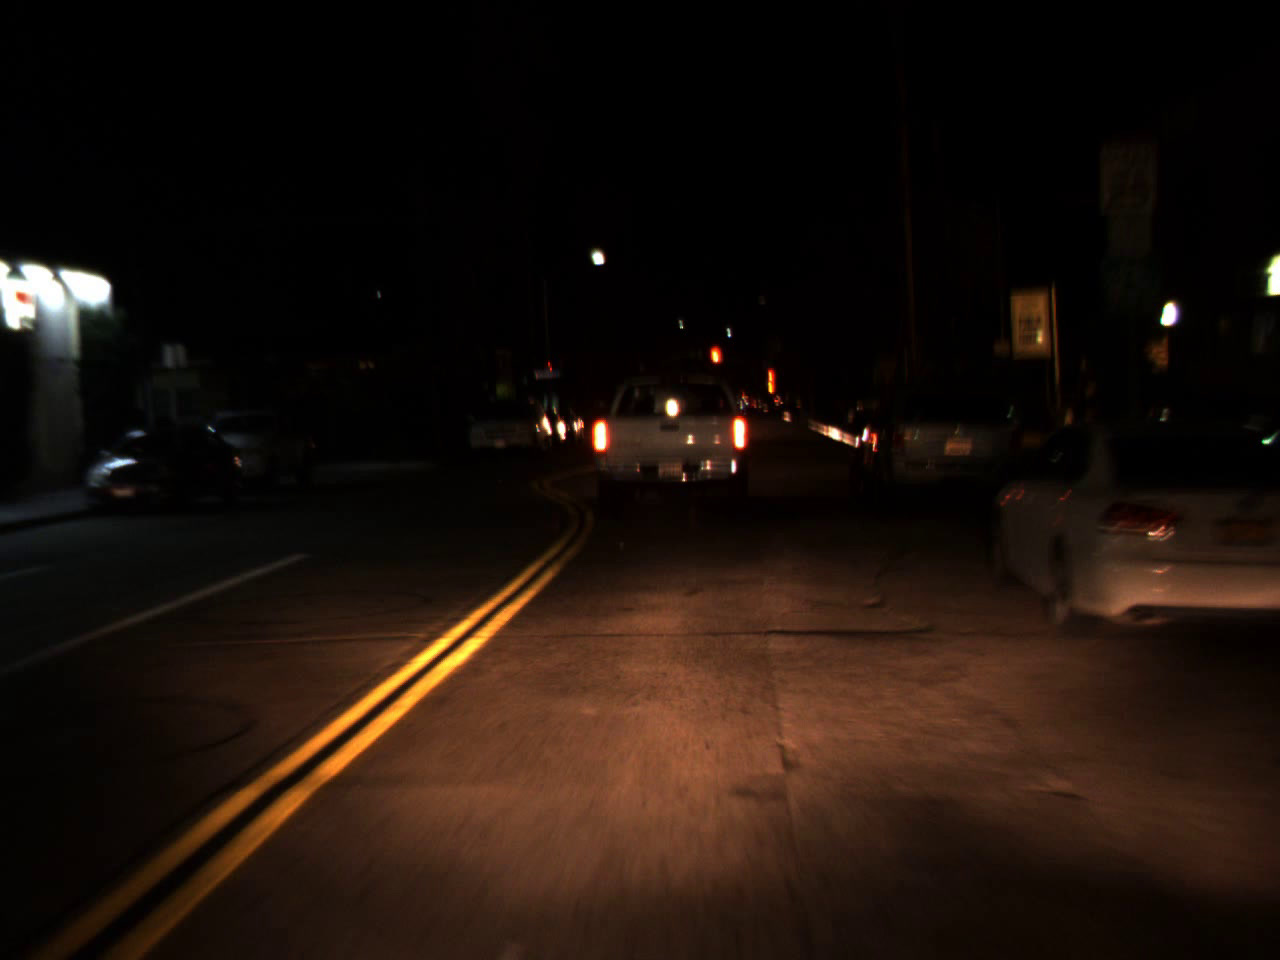stop: (708, 344, 721, 381), (766, 366, 778, 390)
